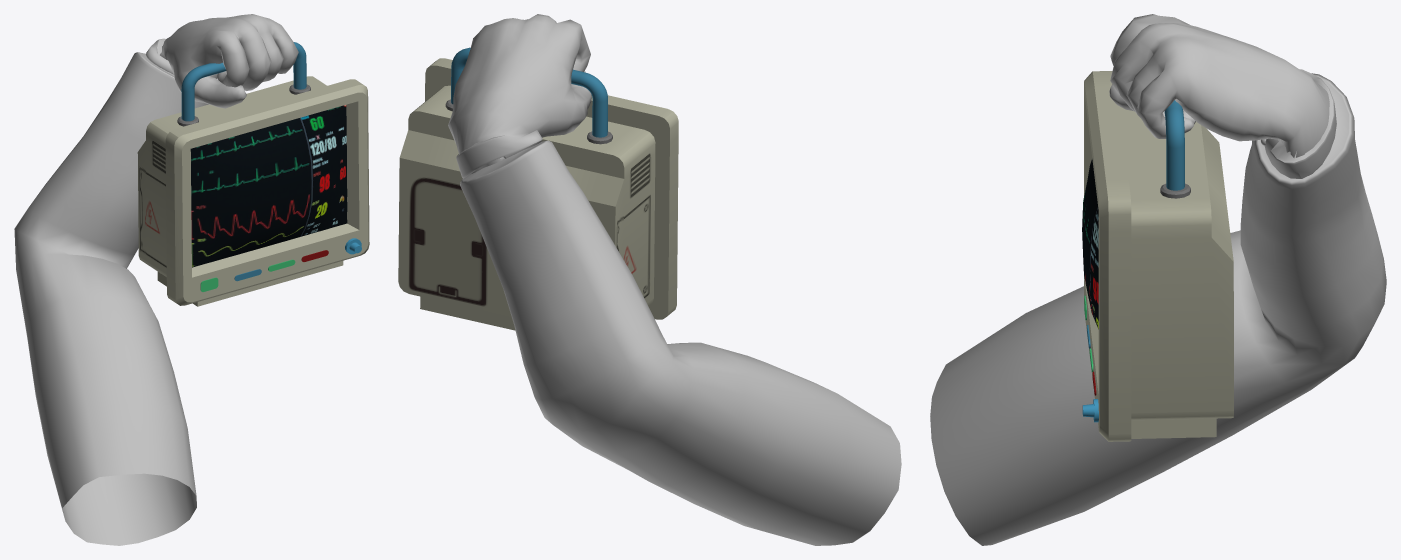
File: Hand_Mil.fbx
3 views of the same model, side by side, from view 1: azimuth 30°, elevation 25°; view 2: azimuth 150°, elevation 25°; view 3: azimuth 270°, elevation 25° (orthographic). The views are drawn at different scales.
Visible parts, largest first — view 1: polySurface3, ECG; view 2: polySurface3, ECG; view 3: polySurface3, ECG.
Boxes of the visible parts, box(x1,y1,x2,y2) form: polySurface3: box(14, 14, 298, 545); ECG: box(137, 42, 369, 306); polySurface3: box(448, 14, 901, 545); ECG: box(398, 47, 678, 330); polySurface3: box(930, 14, 1386, 545); ECG: box(1082, 71, 1233, 441).
Size of the model in its own units: 7909 by 9532 by 6299.
